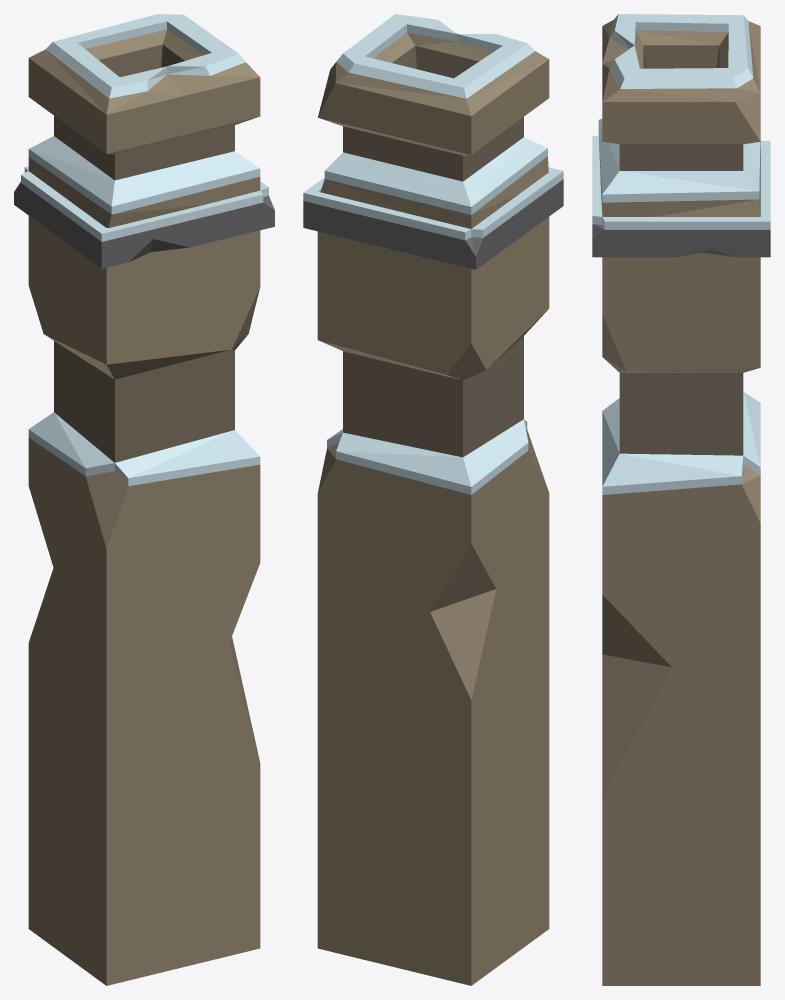
Rendered from SM_Bld_House_Chimney_03_Snow.gltf.
3 renders of one model, left to right at view 1: azimuth 30°, elevation 25°; view 2: azimuth 150°, elevation 25°; view 3: azimuth 270°, elevation 25°, orthographic.
Parts seen in each view (by area): view 1: SM_Bld_House_Chimney_03_Snow; view 2: SM_Bld_House_Chimney_03_Snow; view 3: SM_Bld_House_Chimney_03_Snow.
Part boxes in pixels (x1,y1,x2,y2): SM_Bld_House_Chimney_03_Snow: (14,14,274,985); SM_Bld_House_Chimney_03_Snow: (303,14,563,985); SM_Bld_House_Chimney_03_Snow: (592,14,770,985).
Size of the model in its own units: 0.9577 by 4.7 by 0.8405.
1 material, 1 textured.
